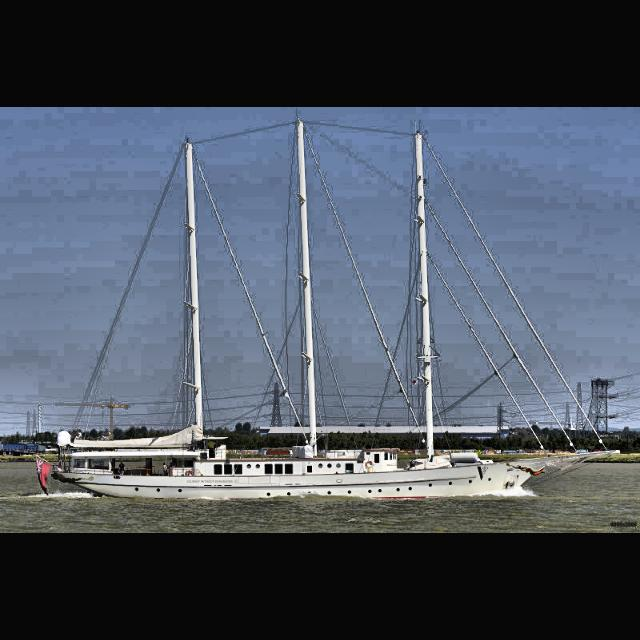sailing_vessel: (52, 115, 620, 501)
